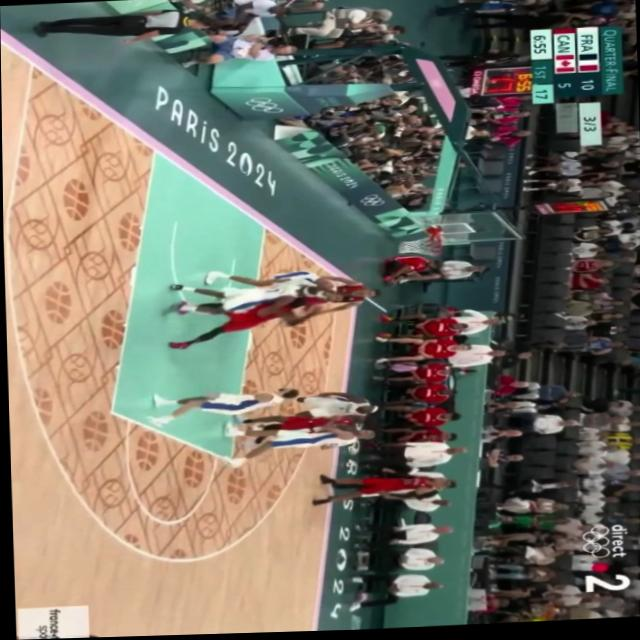ball_handler: (164, 282, 338, 349)
